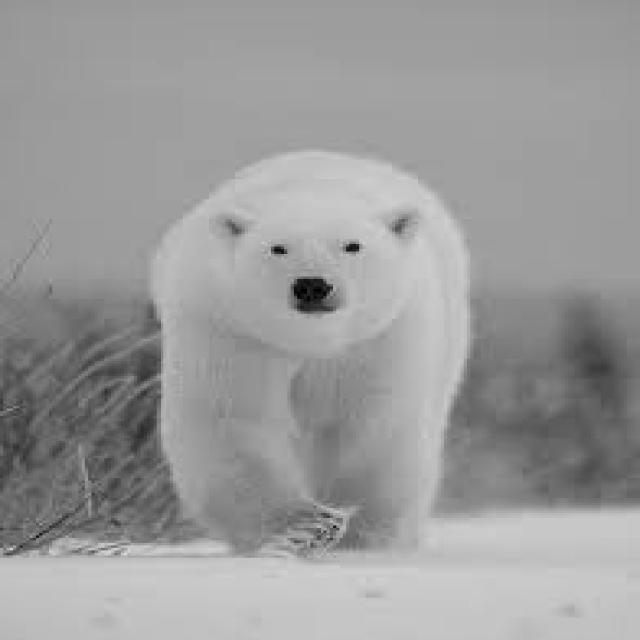Bear: (144, 151, 446, 554)
